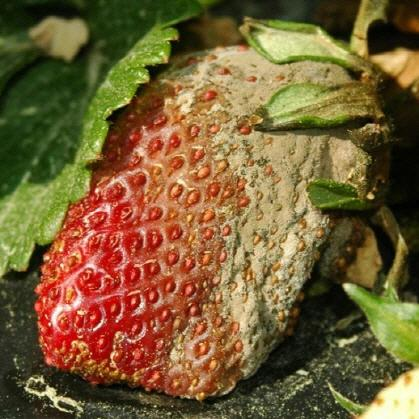Gray Mold: (31, 30, 399, 401)
